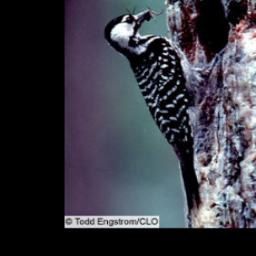Woodpecker: (102, 5, 215, 210)
